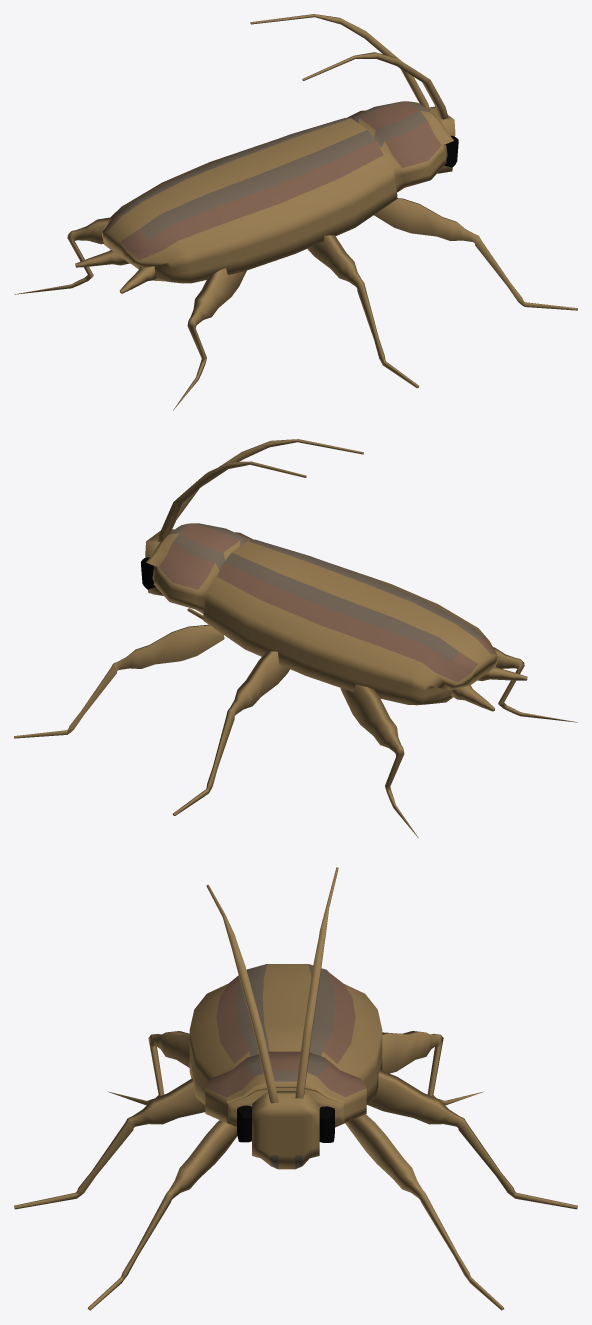
File: MrRoach.fbx
The picture shows the model from 3 angles, top to bottom: view 1: azimuth 30°, elevation 25°; view 2: azimuth 150°, elevation 25°; view 3: azimuth 270°, elevation 25°; orthographic projection. The views are drawn at different scales.
Visible parts, largest first — view 1: TheRoach; view 2: TheRoach; view 3: TheRoach.
Boxes of the visible parts, x1,y1,x2,y2 form: TheRoach: (14,14,577,410); TheRoach: (14,439,577,838); TheRoach: (14,867,577,1310).
Bounding box in the file's own units: 15.84 × 10.28 × 16.14.
